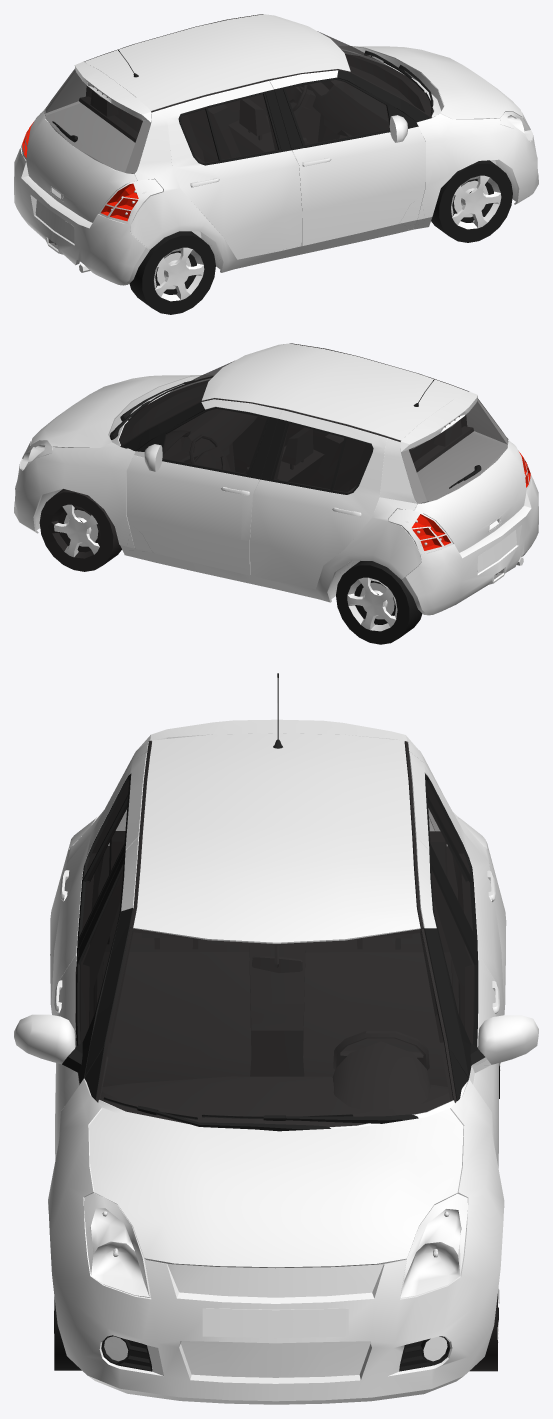
Rendered from sm_suzuki_car_lod_2.fbx.
3 renders of one model, top to bottom at view 1: azimuth 30°, elevation 25°; view 2: azimuth 150°, elevation 25°; view 3: azimuth 270°, elevation 25°, orthographic. The views are drawn at different scales.
Parts seen in each view (by area): view 1: lod2; view 2: lod2; view 3: lod2.
Part boxes in pixels (bbox=[...]): lod2: bbox=[14, 14, 538, 314]; lod2: bbox=[14, 343, 538, 644]; lod2: bbox=[14, 673, 538, 1404].
Size of the model in its own units: 2.9 by 1.33 by 1.53.
6 materials, 6 textured.
